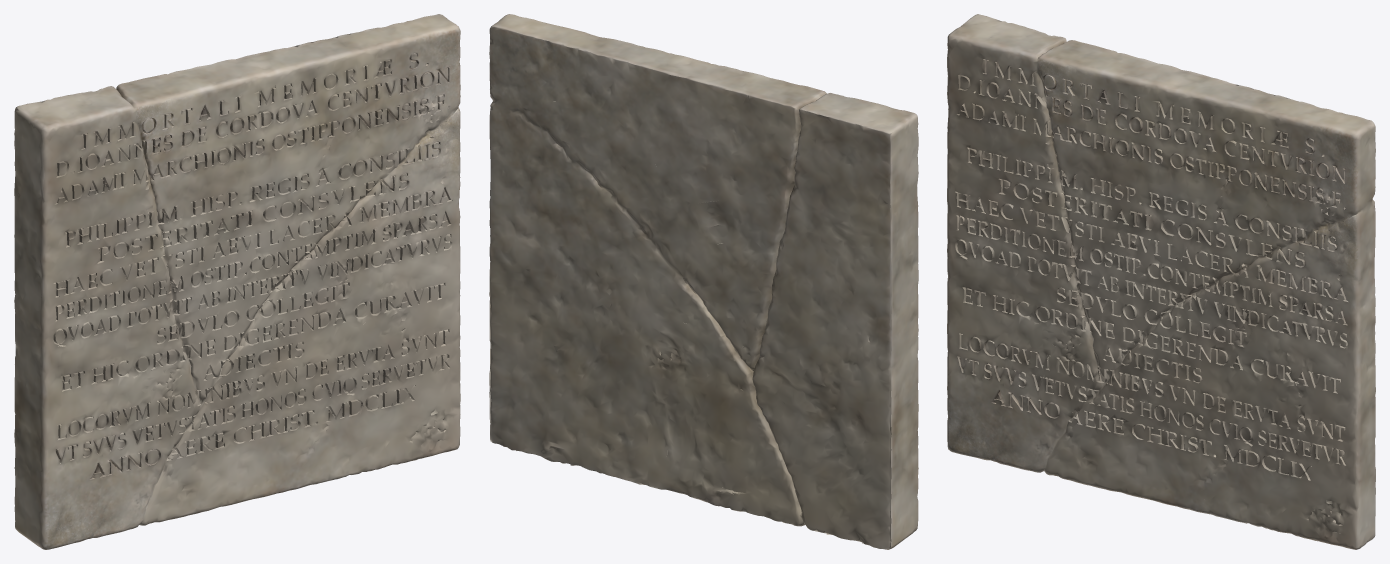
Rendered from 01_INS_conmemorativa.glb.
3 renders of one model, left to right at view 1: azimuth 30°, elevation 25°; view 2: azimuth 150°, elevation 25°; view 3: azimuth 330°, elevation 25°, orthographic.
Parts seen in each view (by area): view 1: INSC_CONMEMORATIVA_LP; view 2: INSC_CONMEMORATIVA_LP; view 3: INSC_CONMEMORATIVA_LP.
Part boxes in pixels (left/top/right/bottom): INSC_CONMEMORATIVA_LP: left=14, top=14, right=460, bottom=549; INSC_CONMEMORATIVA_LP: left=489, top=14, right=918, bottom=549; INSC_CONMEMORATIVA_LP: left=947, top=14, right=1375, bottom=549.
Bounding box in the file's own units: 0.9751 × 0.9491 × 0.1263.
1 material, 1 textured.
